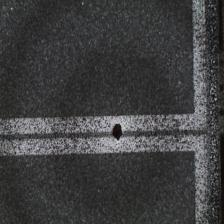PARTICLE: (111, 125, 127, 141)
